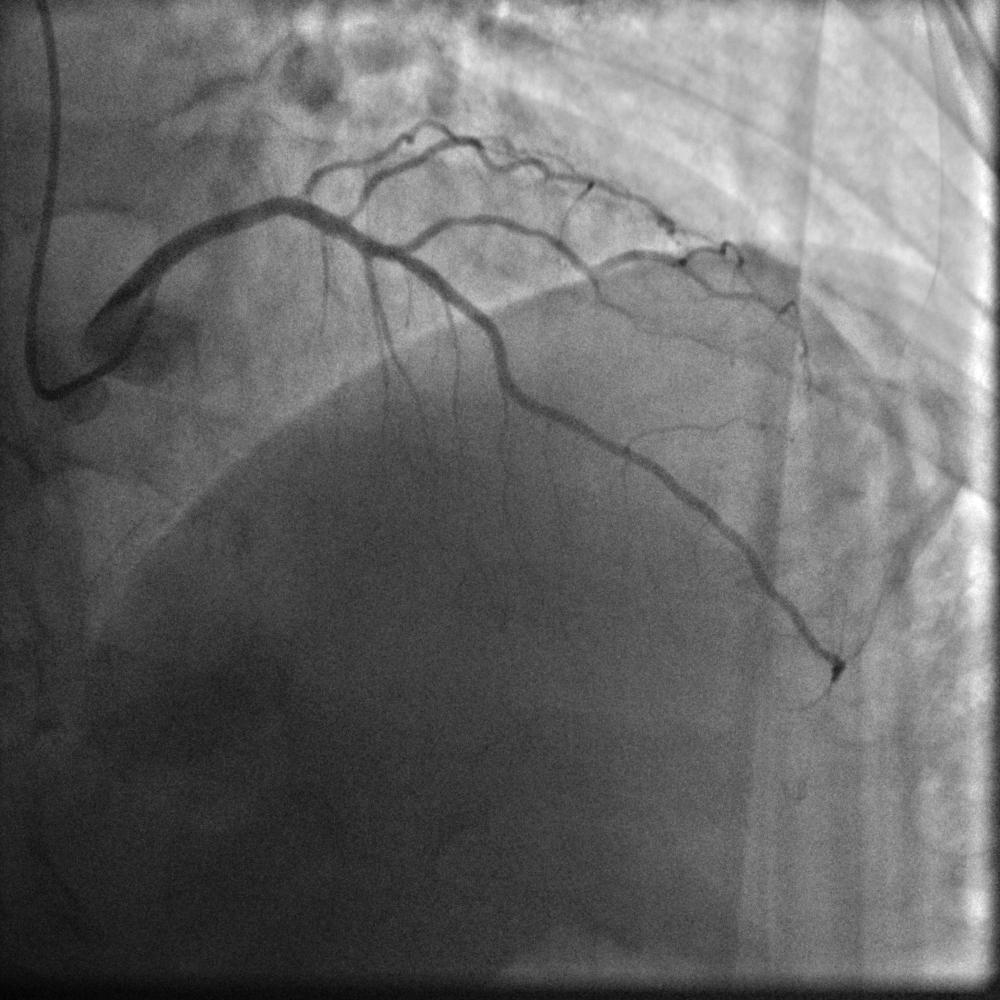Stenosis: (279, 171, 369, 225)
